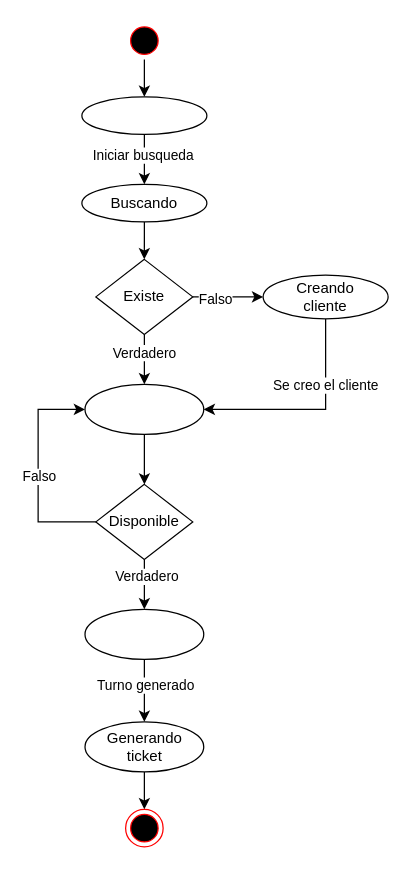
The diagram is 410 pixels wide and 869 high, and some of its shapes have lost their labels. The centre of each missing label's shape, as x and y in pixels:
"Buscando disponibilidad" belongs at point 144,408.
"En espera" belongs at point 144,115.
"Registrando turno" belongs at point 144,633.
